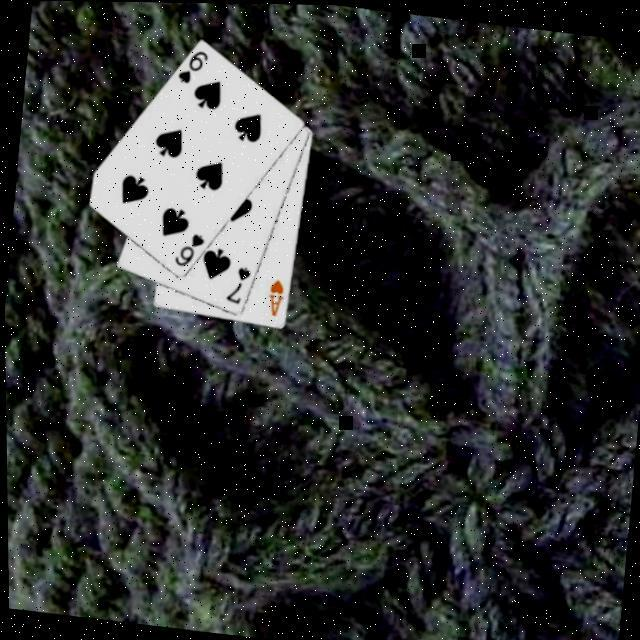6S: (174, 47, 213, 90), (170, 230, 209, 272)
7S: (223, 262, 255, 310)
AH: (264, 276, 289, 321)
